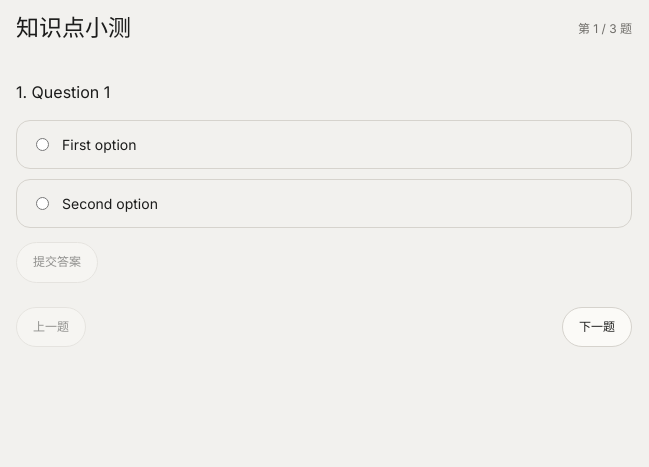
Test: one-question quiz › ignores an older read after reactivation and a subsequent saved answer
Step 1. Click the radio button labelled "Second option" → (42, 203), box [36,197,49,210]
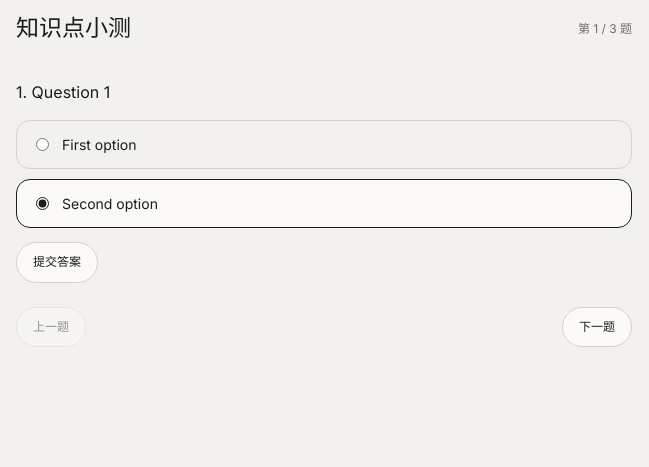
Step 2. Submit the form, box [16,79,632,283]
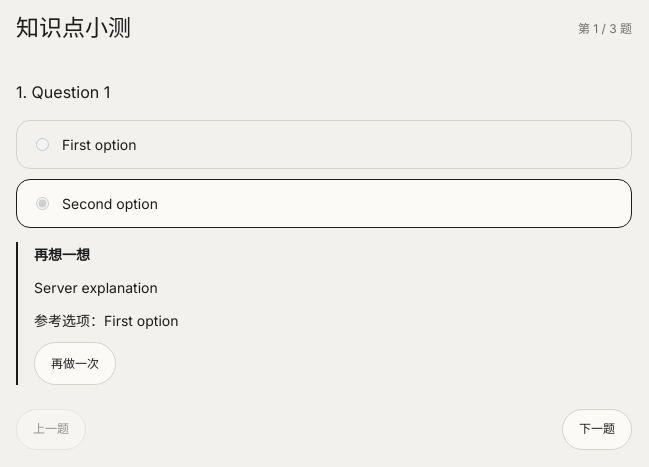
Expected: the text "Server explanation" is shown, [34,279,158,296]
Expected: the element showing "1. Question 1 First option Second option" is disabled, [16,79,632,228]
